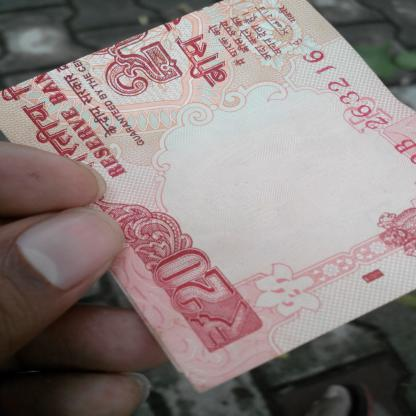Old20Front: (12, 0, 416, 370)
